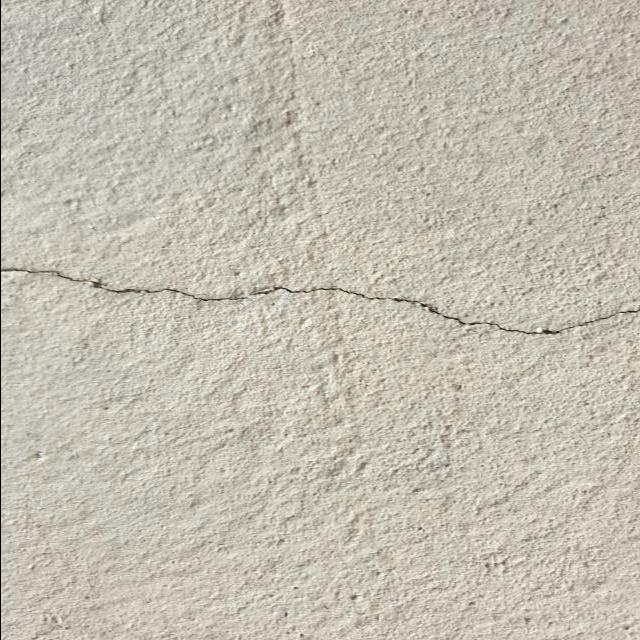SurfaceCrack: (1, 232, 640, 376)
